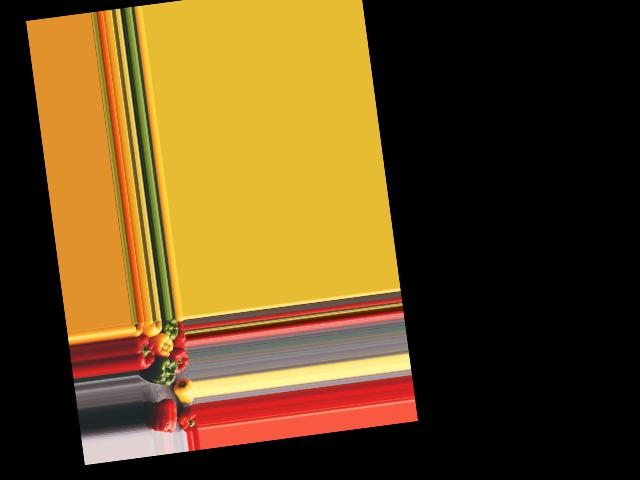bell_pepper: (177, 404, 196, 433)
